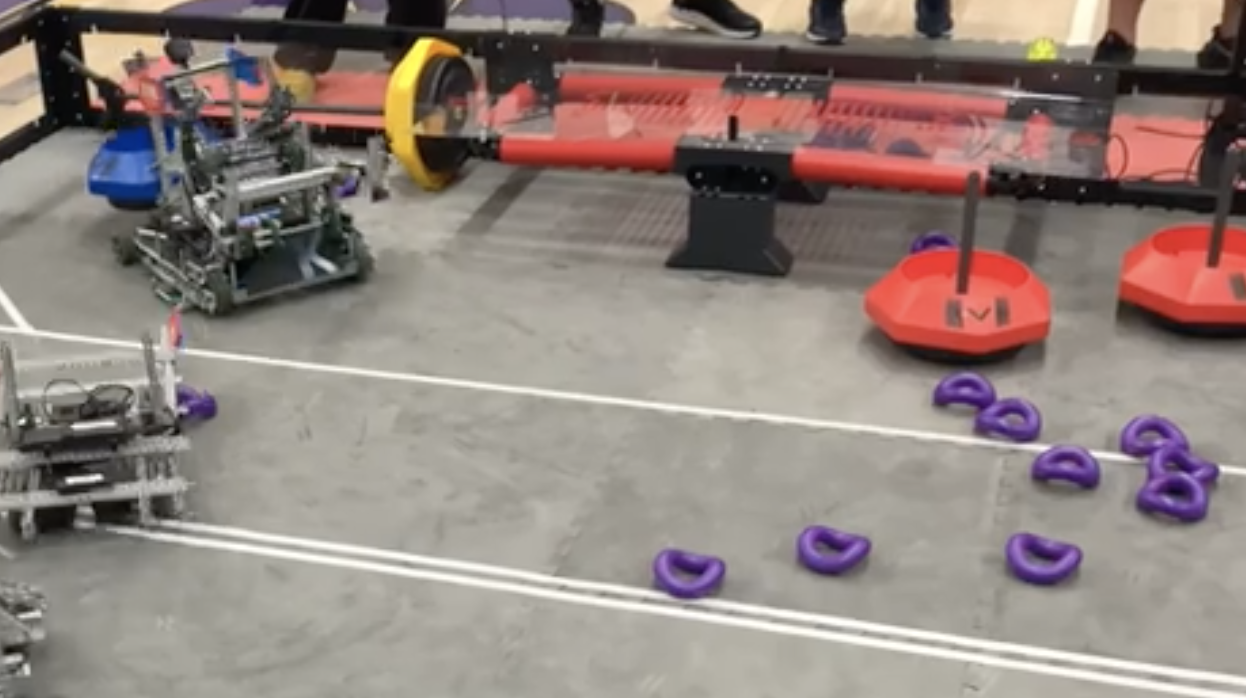ring: (1006, 531, 1083, 584), (1137, 471, 1207, 522), (797, 525, 870, 573), (652, 549, 725, 597), (1033, 445, 1099, 489), (977, 397, 1041, 442), (1120, 413, 1189, 454), (1148, 445, 1220, 484), (934, 371, 995, 409), (174, 383, 216, 422), (908, 230, 959, 254), (334, 175, 359, 198)
